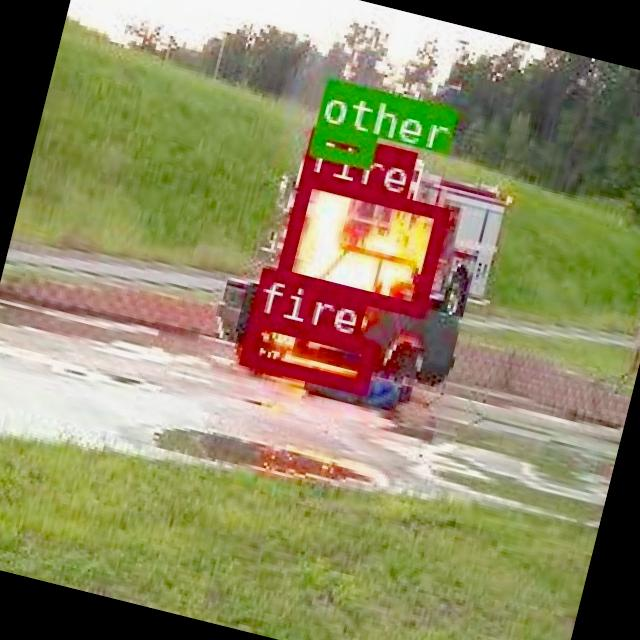fire: (275, 168, 446, 312), (238, 308, 375, 389)
